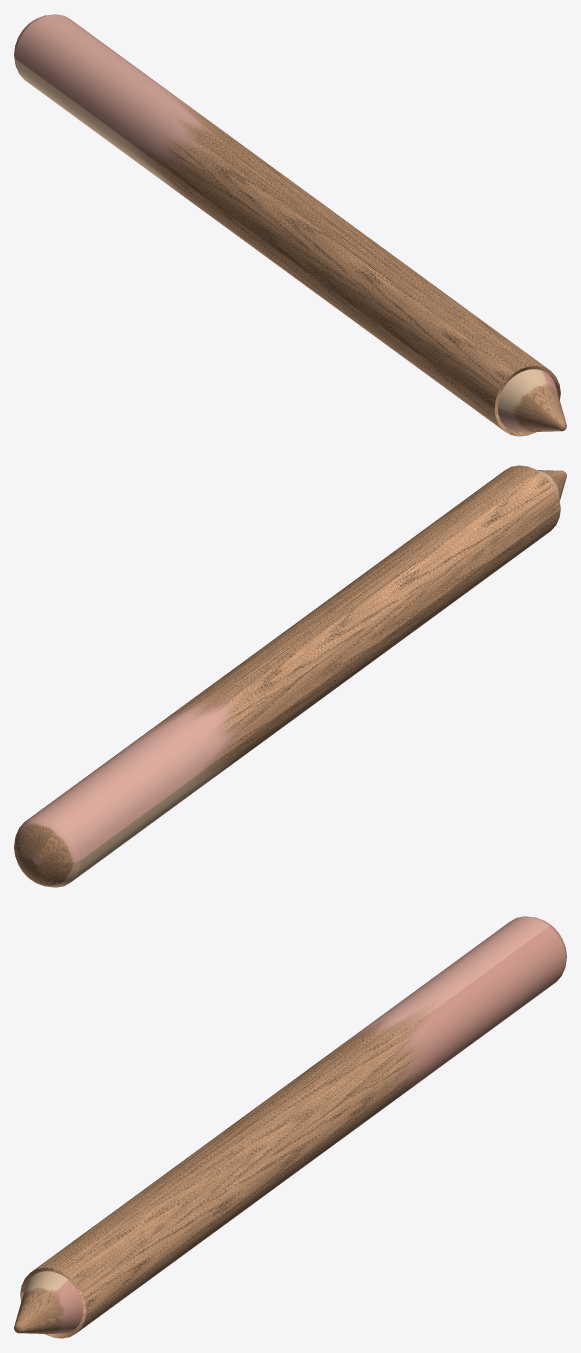
Rendered from pen 1.FBX.
3 views of the same model, one above another, from view 1: azimuth 30°, elevation 25°; view 2: azimuth 150°, elevation 25°; view 3: azimuth 330°, elevation 25° (orthographic).
Parts seen in each view (by area): view 1: tip; view 2: tip; view 3: tip.
Part boxes in pixels (x1,y1,x2,y2): tip: (14,14,566,436); tip: (14,465,566,887); tip: (14,916,566,1338).
Size of the model in its own units: 55306 by 54993 by 761846.
